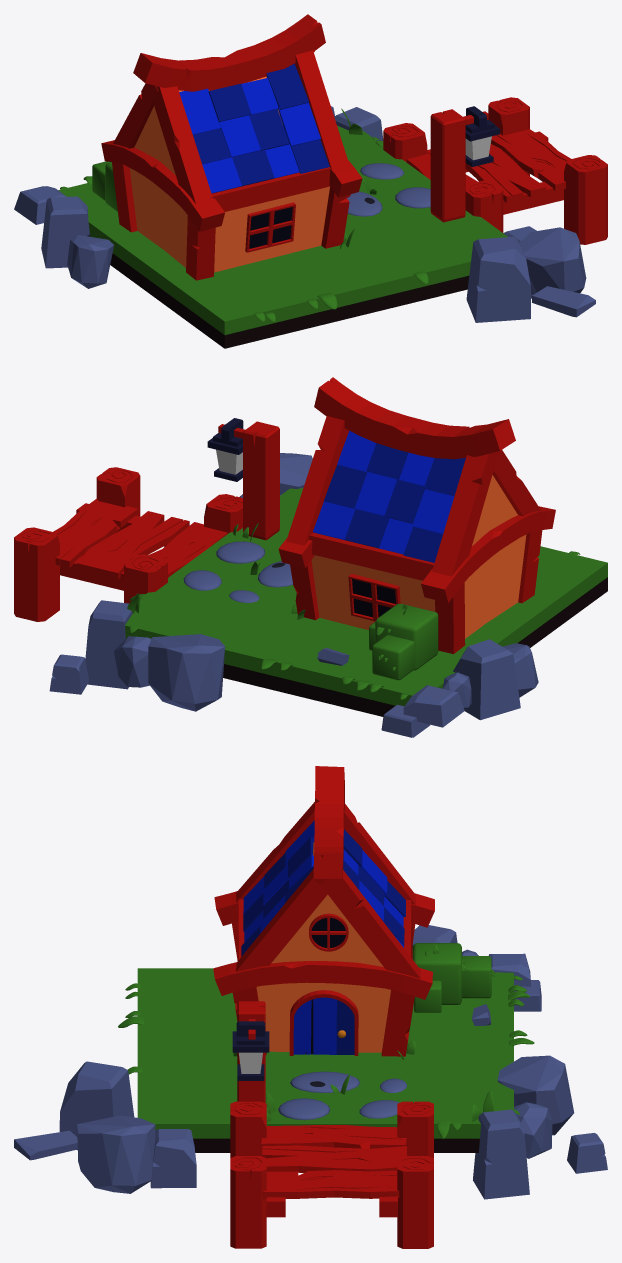
The model's file is casa.obj.
3 renders of one model, top to bottom at view 1: azimuth 30°, elevation 25°; view 2: azimuth 150°, elevation 25°; view 3: azimuth 270°, elevation 25°, orthographic. The views are drawn at different scales.
Parts seen in each view (by area): view 1: SUELO_Cubo.044, PAREDES_Cubo, Cubo.004, Cubo.103_Cubo.118, Cubo.046_Cubo.056, Cubo.045_Cubo.055, Cubo.102_Cubo.117, Cubo.007, Cubo.026_Cubo.028, Cubo.056_Cubo.071, Cubo.038_Cubo.047, Cubo.008 (+34 smaller); view 2: SUELO_Cubo.044, PAREDES_Cubo, Cubo.004, Cubo.055_Cubo.070, Cubo.046_Cubo.056, Cubo_Cubo.045, Cubo.006, Cubo.056_Cubo.071, Cubo.041_Cubo.051, Cubo.026_Cubo.028, Cubo.005, Cubo.052_Cubo.063 (+38 smaller); view 3: SUELO_Cubo.044, PAREDES_Cubo, Cubo.102_Cubo.117, Cubo.001, Cubo.052_Cubo.063, puerta_Cilindro, Cubo.103_Cubo.118, Cubo.038_Cubo.047, Cubo.055_Cubo.070, Cubo.041_Cubo.051, Cubo.005, Cubo.004 (+24 smaller).
Part boxes in pixels (box(x1,y1,x2,y2)): SUELO_Cubo.044: box(58, 125, 507, 348); PAREDES_Cubo: box(130, 76, 329, 272); Cubo.004: box(133, 14, 325, 91); Cubo.103_Cubo.118: box(466, 237, 530, 322); Cubo.046_Cubo.056: box(430, 109, 465, 222); Cubo.045_Cubo.055: box(564, 155, 607, 244); Cubo.102_Cubo.117: box(519, 227, 586, 298); Cubo.007: box(153, 86, 213, 204); Cubo.026_Cubo.028: box(101, 140, 224, 231); Cubo.056_Cubo.071: box(41, 196, 89, 268); Cubo.038_Cubo.047: box(491, 128, 570, 190); Cubo.008: box(294, 50, 349, 169); SUELO_Cubo.044: box(125, 488, 607, 716); PAREDES_Cubo: box(311, 475, 526, 638); Cubo.004: box(314, 377, 515, 459); Cubo.055_Cubo.070: box(148, 634, 225, 711); Cubo.046_Cubo.056: box(243, 421, 279, 540); Cubo_Cubo.045: box(14, 527, 59, 621); Cubo.006: box(432, 451, 498, 576); Cubo.056_Cubo.071: box(453, 639, 520, 720); Cubo.041_Cubo.051: box(77, 511, 189, 579); Cubo.026_Cubo.028: box(421, 506, 555, 603); Cubo.005: box(286, 416, 349, 545); Cubo.052_Cubo.063: box(85, 600, 132, 689); SUELO_Cubo.044: box(137, 968, 513, 1152); PAREDES_Cubo: box(256, 842, 390, 1052); Cubo.102_Cubo.117: box(77, 1115, 155, 1193); Cubo.001: box(213, 961, 432, 999); Cubo.052_Cubo.063: box(473, 1109, 529, 1199); puerta_Cilindro: box(289, 990, 358, 1055); Cubo.103_Cubo.118: box(59, 1061, 134, 1149); Cubo.038_Cubo.047: box(262, 1170, 399, 1198); Cubo.055_Cubo.070: box(497, 1055, 574, 1135); Cubo.041_Cubo.051: box(262, 1145, 406, 1172); Cubo.005: box(313, 870, 420, 978); Cubo.004: box(313, 766, 344, 878).
Size of what is drawn, in the model's own units: 5.29 by 2.64 by 5.27.
